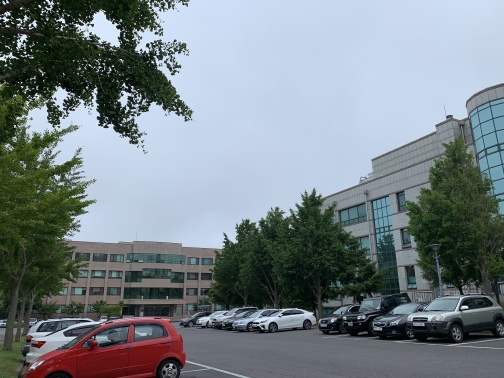Joint Experimental Labs: (56, 238, 219, 319)
Second Library: (314, 80, 504, 295)
